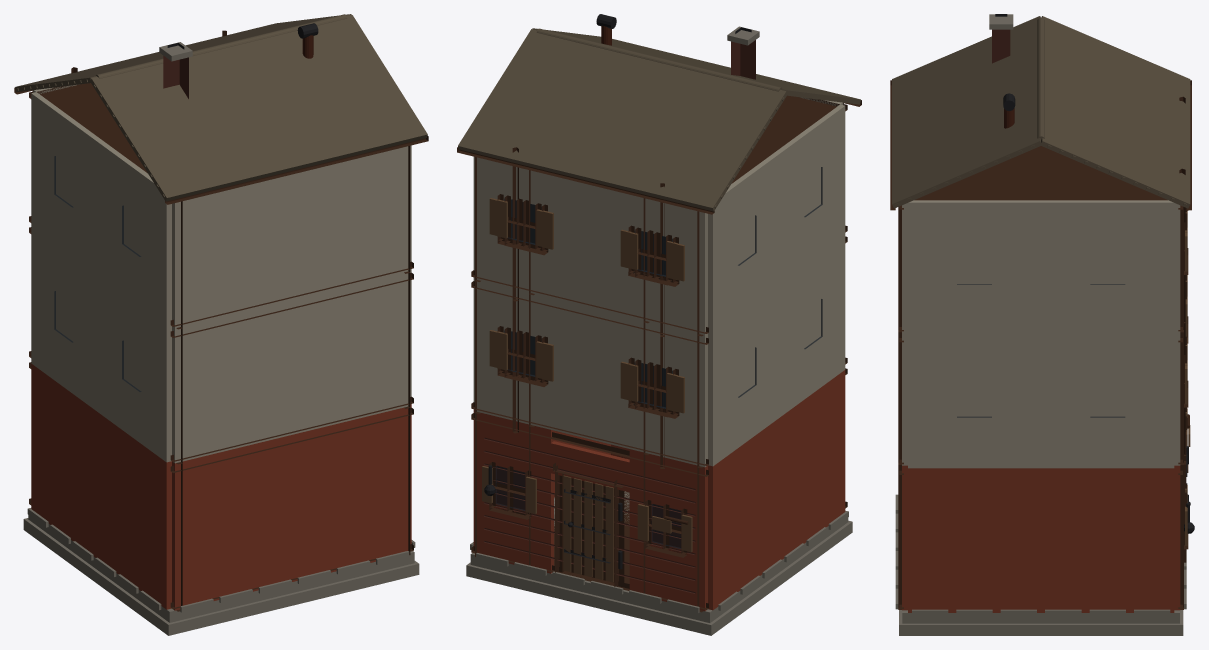
File: GalakasMidCity_MerchantTall_W04D04_F01_R01U01x2L01_A01.obj
3 views of the same model, side by side, from view 1: azimuth 30°, elevation 25°; view 2: azimuth 150°, elevation 25°; view 3: azimuth 270°, elevation 25° (orthographic). The views are drawn at different scales.
Visible parts, largest first — view 1: GalakasMidCity_MerchantTall_W04D04_F01_R01U01x2L01_A01_roof_back, GalakasMidCity_MerchantTall_W04D04_F01_R01U01x2L01_A01_lower_bac, GalakasMidCity_MerchantTall_W04D04_F01_R01U01x2L01_A01_upper1_ba, GalakasMidCity_MerchantTall_W04D04_F01_R01U01x2L01_A01_upper2_ba, GalakasMidCity_MerchantTall_W04D04_F01_R01U01x2L01_A01_lower_lef, GalakasMidCity_MerchantTall_W04D04_F01_R01U01x2L01_A01_upper2_le, GalakasMidCity_MerchantTall_W04D04_F01_R01U01x2L01_A01_upper1_le, stone_plinth_base, stone_plinth_raised, GalakasMidCity_MerchantTall_W04D04_F01_R01U01x2L01_A01_upper2_ce, GalakasMidCity_MerchantTall_W04D04_F01_R01U01x2L01_A01_roof_fron, GalakasMidCity_MerchantTall_W04D04_F01_R01U01x2L01_A01_chimney_b (+1 smaller); view 2: GalakasMidCity_MerchantTall_W04D04_F01_R01U01x2L01_A01_roof_fron, GalakasMidCity_MerchantTall_W04D04_F01_R01U01x2L01_A01_upper1_fr, GalakasMidCity_MerchantTall_W04D04_F01_R01U01x2L01_A01_upper2_fr, GalakasMidCity_MerchantTall_W04D04_F01_R01U01x2L01_A01_lower_fro, GalakasMidCity_MerchantTall_W04D04_F01_R01U01x2L01_A01_lower_lef, GalakasMidCity_MerchantTall_W04D04_F01_R01U01x2L01_A01_upper2_le, GalakasMidCity_MerchantTall_W04D04_F01_R01U01x2L01_A01_upper1_le, GalakasMidCity_MerchantTall_W04D04_F01_R01U01x2L01_A01_lower_mai, stone_plinth_base, GalakasMidCity_MerchantTall_W04D04_F01_R01U01x2L01_A01_upper2_up, GalakasMidCity_MerchantTall_W04D04_F01_R01U01x2L01_A01_brick_fro, GalakasMidCity_MerchantTall_W04D04_F01_R01U01x2L01_A01_upper1_up (+6 smaller); view 3: GalakasMidCity_MerchantTall_W04D04_F01_R01U01x2L01_A01_lower_rig, GalakasMidCity_MerchantTall_W04D04_F01_R01U01x2L01_A01_upper2_ri, GalakasMidCity_MerchantTall_W04D04_F01_R01U01x2L01_A01_upper1_ri, GalakasMidCity_MerchantTall_W04D04_F01_R01U01x2L01_A01_roof_fron, GalakasMidCity_MerchantTall_W04D04_F01_R01U01x2L01_A01_roof_back, GalakasMidCity_MerchantTall_W04D04_F01_R01U01x2L01_A01_upper2_ce, stone_plinth_base, stone_plinth_raised, GalakasMidCity_MerchantTall_W04D04_F01_R01U01x2L01_A01_lower_fro, GalakasMidCity_MerchantTall_W04D04_F01_R01U01x2L01_A01_upper1_fr, GalakasMidCity_MerchantTall_W04D04_F01_R01U01x2L01_A01_lower_bac, GalakasMidCity_MerchantTall_W04D04_F01_R01U01x2L01_A01_upper1_ba (+4 smaller).
Boxes of the visible parts, x1=… form: GalakasMidCity_MerchantTall_W04D04_F01_R01U01x2L01_A01_roof_back: x1=91, y1=15, x2=428, y2=204; GalakasMidCity_MerchantTall_W04D04_F01_R01U01x2L01_A01_lower_bac: x1=170, y1=407, x2=413, y2=611; GalakasMidCity_MerchantTall_W04D04_F01_R01U01x2L01_A01_upper1_ba: x1=170, y1=272, x2=413, y2=464; GalakasMidCity_MerchantTall_W04D04_F01_R01U01x2L01_A01_upper2_ba: x1=170, y1=146, x2=413, y2=329; GalakasMidCity_MerchantTall_W04D04_F01_R01U01x2L01_A01_lower_lef: x1=31, y1=363, x2=171, y2=609; GalakasMidCity_MerchantTall_W04D04_F01_R01U01x2L01_A01_upper2_le: x1=31, y1=92, x2=171, y2=327; GalakasMidCity_MerchantTall_W04D04_F01_R01U01x2L01_A01_upper1_le: x1=31, y1=228, x2=171, y2=462; stone_plinth_base: x1=23, y1=518, x2=419, y2=635; stone_plinth_raised: x1=28, y1=508, x2=414, y2=622; GalakasMidCity_MerchantTall_W04D04_F01_R01U01x2L01_A01_upper2_ce: x1=37, y1=83, x2=147, y2=173; GalakasMidCity_MerchantTall_W04D04_F01_R01U01x2L01_A01_roof_fron: x1=14, y1=14, x2=351, y2=94; GalakasMidCity_MerchantTall_W04D04_F01_R01U01x2L01_A01_chimney_b: x1=159, y1=42, x2=192, y2=98; GalakasMidCity_MerchantTall_W04D04_F01_R01U01x2L01_A01_roof_fron: x1=457, y1=29, x2=787, y2=214; GalakasMidCity_MerchantTall_W04D04_F01_R01U01x2L01_A01_upper1_fr: x1=471, y1=281, x2=708, y2=468; GalakasMidCity_MerchantTall_W04D04_F01_R01U01x2L01_A01_upper2_fr: x1=471, y1=157, x2=708, y2=336; GalakasMidCity_MerchantTall_W04D04_F01_R01U01x2L01_A01_lower_fro: x1=471, y1=413, x2=708, y2=612; GalakasMidCity_MerchantTall_W04D04_F01_R01U01x2L01_A01_lower_lef: x1=708, y1=370, x2=845, y2=610; GalakasMidCity_MerchantTall_W04D04_F01_R01U01x2L01_A01_upper2_le: x1=708, y1=104, x2=845, y2=334; GalakasMidCity_MerchantTall_W04D04_F01_R01U01x2L01_A01_upper1_le: x1=708, y1=238, x2=845, y2=466; GalakasMidCity_MerchantTall_W04D04_F01_R01U01x2L01_A01_lower_mai: x1=553, y1=463, x2=624, y2=586; stone_plinth_base: x1=466, y1=520, x2=852, y2=635; GalakasMidCity_MerchantTall_W04D04_F01_R01U01x2L01_A01_upper2_up: x1=489, y1=194, x2=684, y2=286; GalakasMidCity_MerchantTall_W04D04_F01_R01U01x2L01_A01_brick_fro: x1=483, y1=437, x2=695, y2=593; GalakasMidCity_MerchantTall_W04D04_F01_R01U01x2L01_A01_upper1_up: x1=489, y1=326, x2=684, y2=418; GalakasMidCity_MerchantTall_W04D04_F01_R01U01x2L01_A01_lower_rig: x1=908, y1=468, x2=1174, y2=612; GalakasMidCity_MerchantTall_W04D04_F01_R01U01x2L01_A01_upper2_ri: x1=908, y1=200, x2=1174, y2=335; GalakasMidCity_MerchantTall_W04D04_F01_R01U01x2L01_A01_upper1_ri: x1=908, y1=335, x2=1174, y2=468; GalakasMidCity_MerchantTall_W04D04_F01_R01U01x2L01_A01_roof_fron: x1=1040, y1=16, x2=1191, y2=210; GalakasMidCity_MerchantTall_W04D04_F01_R01U01x2L01_A01_roof_back: x1=890, y1=16, x2=1041, y2=210; GalakasMidCity_MerchantTall_W04D04_F01_R01U01x2L01_A01_upper2_ce: x1=914, y1=146, x2=1167, y2=200; stone_plinth_base: x1=899, y1=610, x2=1183, y2=635; stone_plinth_raised: x1=902, y1=610, x2=1179, y2=623; GalakasMidCity_MerchantTall_W04D04_F01_R01U01x2L01_A01_lower_fro: x1=1174, y1=407, x2=1188, y2=610; GalakasMidCity_MerchantTall_W04D04_F01_R01U01x2L01_A01_upper1_fr: x1=1174, y1=276, x2=1188, y2=465; GalakasMidCity_MerchantTall_W04D04_F01_R01U01x2L01_A01_lower_bac: x1=898, y1=465, x2=907, y2=610; GalakasMidCity_MerchantTall_W04D04_F01_R01U01x2L01_A01_upper1_ba: x1=898, y1=332, x2=907, y2=465.
Size of the model in its own units: 8.95 by 17.5 by 9.14.
